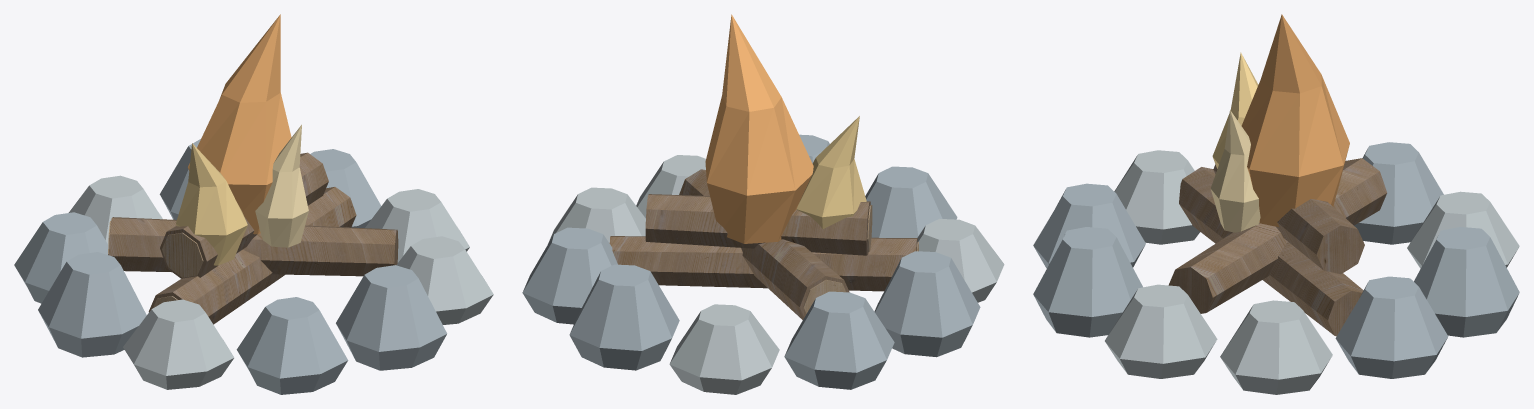
File: campfire.glb
The picture shows the model from 3 angles, left to right: view 1: azimuth 30°, elevation 25°; view 2: azimuth 150°, elevation 25°; view 3: azimuth 270°, elevation 25°; orthographic projection. The views are drawn at different scales.
Visible parts, largest first — view 1: campfire; view 2: campfire; view 3: campfire.
Part boxes in pixels (x1,y1,x2,y2): campfire: [14, 14, 493, 394]; campfire: [522, 14, 1004, 394]; campfire: [1033, 14, 1519, 394].
Bounding box in the file's own units: 1.42 × 0.91 × 1.36.
Materials: 7 (2 with a texture image).
